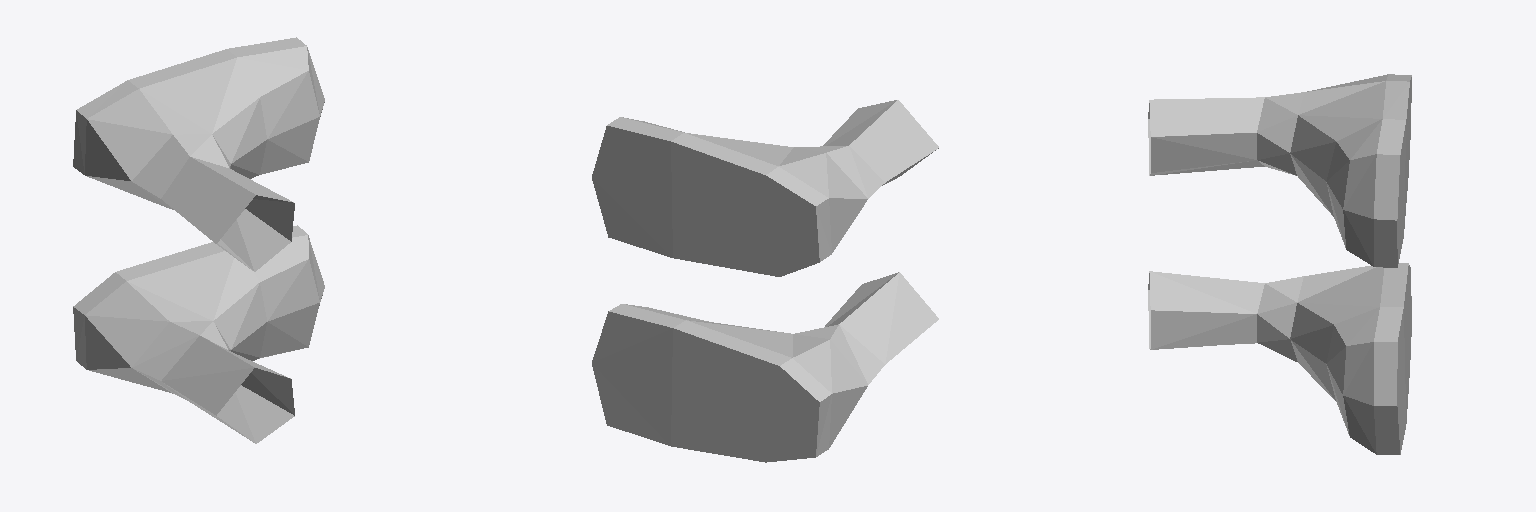
Rendered from 슬리퍼.obj.
The picture shows the model from 3 angles: view 1: azimuth 30°, elevation 25°; view 2: azimuth 150°, elevation 25°; view 3: azimuth 270°, elevation 25°; orthographic projection.
Parts seen in each view (by area): view 1: ka_foot_001; view 2: ka_foot_001; view 3: ka_foot_001.
Boxes of the visible parts, x1,y1,x2,y2 form: ka_foot_001: [73, 37, 324, 443]; ka_foot_001: [592, 100, 938, 462]; ka_foot_001: [1148, 74, 1411, 454].
Size of the model in its own units: 34.48 by 42.82 by 33.48.